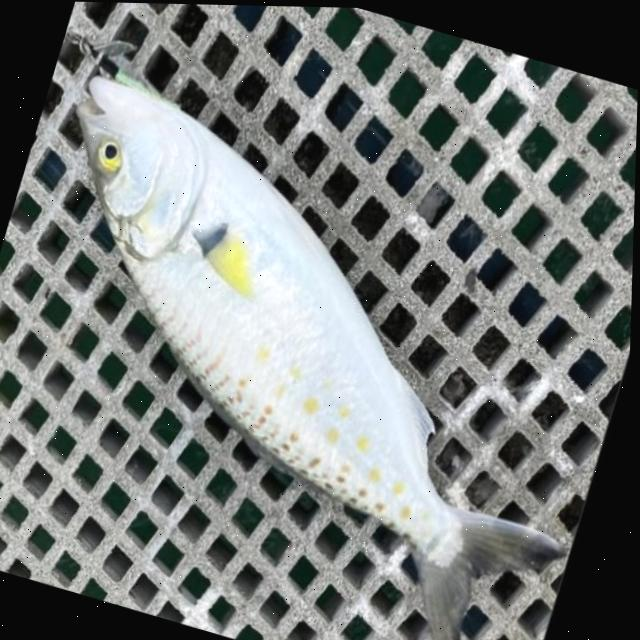Australian Salmon: (0, 46, 639, 640)
